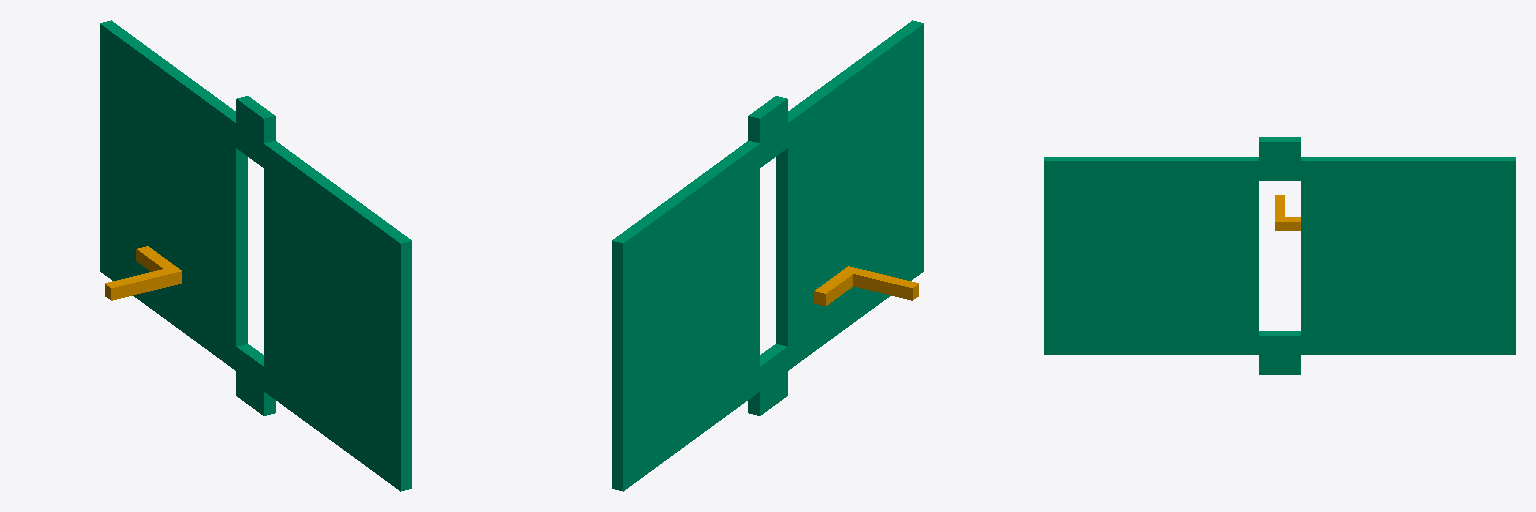
URDF robot description (Lrobot):
<?xml version="1.0" ?>
<!-- =================================================================================== -->
<!-- |    This document was autogenerated by xacro from quadrotor_base.xacro           | -->
<!-- |    EDITING THIS FILE BY HAND IS NOT RECOMMENDED                                 | -->
<!-- =================================================================================== -->
<robot name="Lrobot" xmlns:xacro="http://www.ros.org/wiki/xacro">
  <link name="base_link">
    <visual>
      <origin rpy="0 0 0" xyz="0 0 0"/>
      <geometry>
      <box size="0.5 0.1 0.1"/>
      </geometry>
    </visual>

    <collision>
      <origin rpy="0 0 0" xyz="0 0 0"/>
      <geometry>
      <box size="0.5 0.1 0.1"/>
      </geometry>
    </collision>


    <visual>
      <origin rpy="0 0 0" xyz=".3 .2 0"/>
      <geometry>
      <box size="0.1 0.5 0.1"/>
      </geometry>
    </visual>

    <collision>
      <origin rpy="0 0 0" xyz=".3 .2 0"/>
      <geometry>
      <box size="0.1 0.5 0.1"/>
      </geometry>
    </collision>


  </link>

  <link name="world">
  </link>

  <link name="obs1">
    <visual>
      <origin rpy="0 0 0" xyz="1 -1.2 0"/>
      <geometry>
      <box size="0.1 2. 2."/>
      </geometry>
    </visual>

    <collision>
      <origin rpy="0 0 0" xyz="1 -1.2 0"/>
      <geometry>
      <box size="0.1 2. 2."/>
      </geometry>
    </collision>



    <visual>
      <origin rpy="0 0 0" xyz="1 1.2 0"/>
      <geometry>
      <box size="0.1 2. 2."/>
      </geometry>
    </visual>

    <collision>
      <origin rpy="0 0 0" xyz="1 1.2 0"/>
      <geometry>
      <box size="0.1 2. 2."/>
      </geometry>
    </collision>



    <visual>
      <origin rpy="0 0 0" xyz="1 0 -1"/>
      <geometry>
      <box size="0.1 .4 .4"/>
      </geometry>
    </visual>

    <collision>
      <origin rpy="0 0 0" xyz="1 0 -1"/>
      <geometry>
      <box size="0.1 .4 .4"/>
      </geometry>
    </collision>

    <visual>
      <origin rpy="0 0 0" xyz="1 0 1"/>
      <geometry>
      <box size="0.1 .4 .4"/>
      </geometry>
    </visual>

    <collision>
      <origin rpy="0 0 0" xyz="1 0 1"/>
      <geometry>
      <box size="0.1 .4 .4"/>
      </geometry>
    </collision>



    <!--
    <visual>
      <origin rpy="0 0 0" xyz=".3 .2 0"/>
      <geometry>
      <box size="0.1 0.5 0.1"/>
      </geometry>
    </visual>
    -->

  </link>




  <joint name="myjoint" type="floating">
  <parent link="world"/>
  <child link="base_link"/>
  </joint>

  <joint name="obs1_j" type="fixed">
  <parent link="world"/>
  <child link="obs1"/>
  </joint>


</robot>

--- Render facts (derived) ---
Views: 3 orthographic renders of the robot side by side, from view 1: azimuth 30°, elevation 25°; view 2: azimuth 150°, elevation 25°; view 3: azimuth 270°, elevation 25°.
Model Lrobot with 3 links and 2 joints (1 fixed, 1 floating), rooted at world, posed every joint at zero.
Links seen in each view (by area): view 1: obs1, base_link; view 2: obs1, base_link; view 3: obs1, base_link.
Boxes of the visible links, bbox=[...] form: obs1: bbox=[100, 20, 411, 491]; base_link: bbox=[105, 246, 181, 300]; obs1: bbox=[612, 20, 923, 491]; base_link: bbox=[814, 266, 918, 305]; obs1: bbox=[1044, 137, 1515, 374]; base_link: bbox=[1275, 195, 1300, 230].
Bounding box of the posed robot: 1.3 × 4.4 × 2.4 m (x, y, z).
Geometry: primitives only (box / cylinder / sphere), no mesh files.